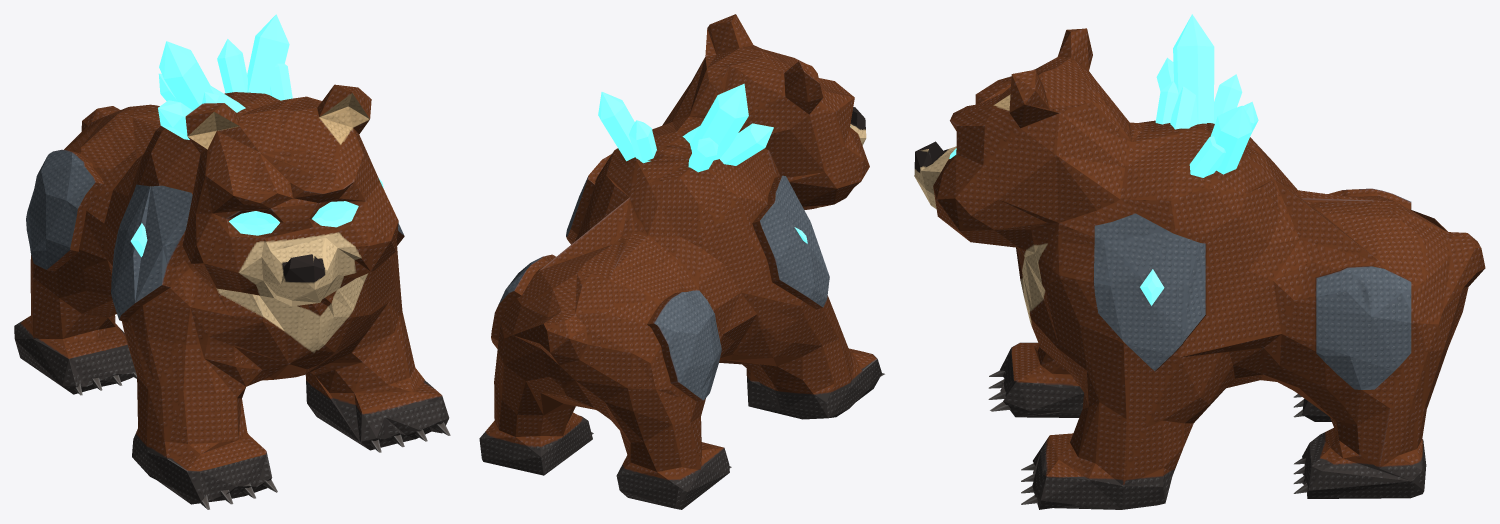
The model's file is studbear.fbx.
3 views of the same model, side by side, from view 1: azimuth 30°, elevation 25°; view 2: azimuth 150°, elevation 25°; view 3: azimuth 270°, elevation 25° (orthographic). The views are drawn at different scales.
Parts seen in each view (by area): view 1: StudBear_Body, StudBear_GLOW; view 2: StudBear_Body, StudBear_GLOW; view 3: StudBear_Body, StudBear_GLOW.
Boxes of the visible parts, bbox=[...] form: StudBear_Body: bbox=[14, 84, 450, 509]; StudBear_GLOW: bbox=[130, 14, 383, 257]; StudBear_Body: bbox=[479, 14, 884, 509]; StudBear_GLOW: bbox=[598, 83, 850, 243]; StudBear_Body: bbox=[914, 28, 1485, 509]; StudBear_GLOW: bbox=[949, 14, 1258, 305].
Size of the model in its own units: 2.28 by 3 by 3.92.
2 materials, 1 textured.
